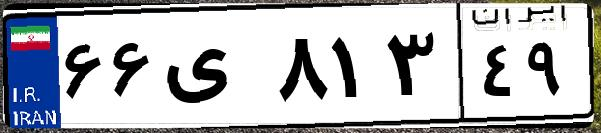1: (330, 28, 385, 110)
3: (385, 28, 445, 110)
4: (475, 38, 525, 113)
6: (57, 26, 110, 100), (110, 28, 158, 98)
8: (270, 28, 330, 110)
9: (525, 38, 570, 115)
ی: (158, 20, 270, 120)
